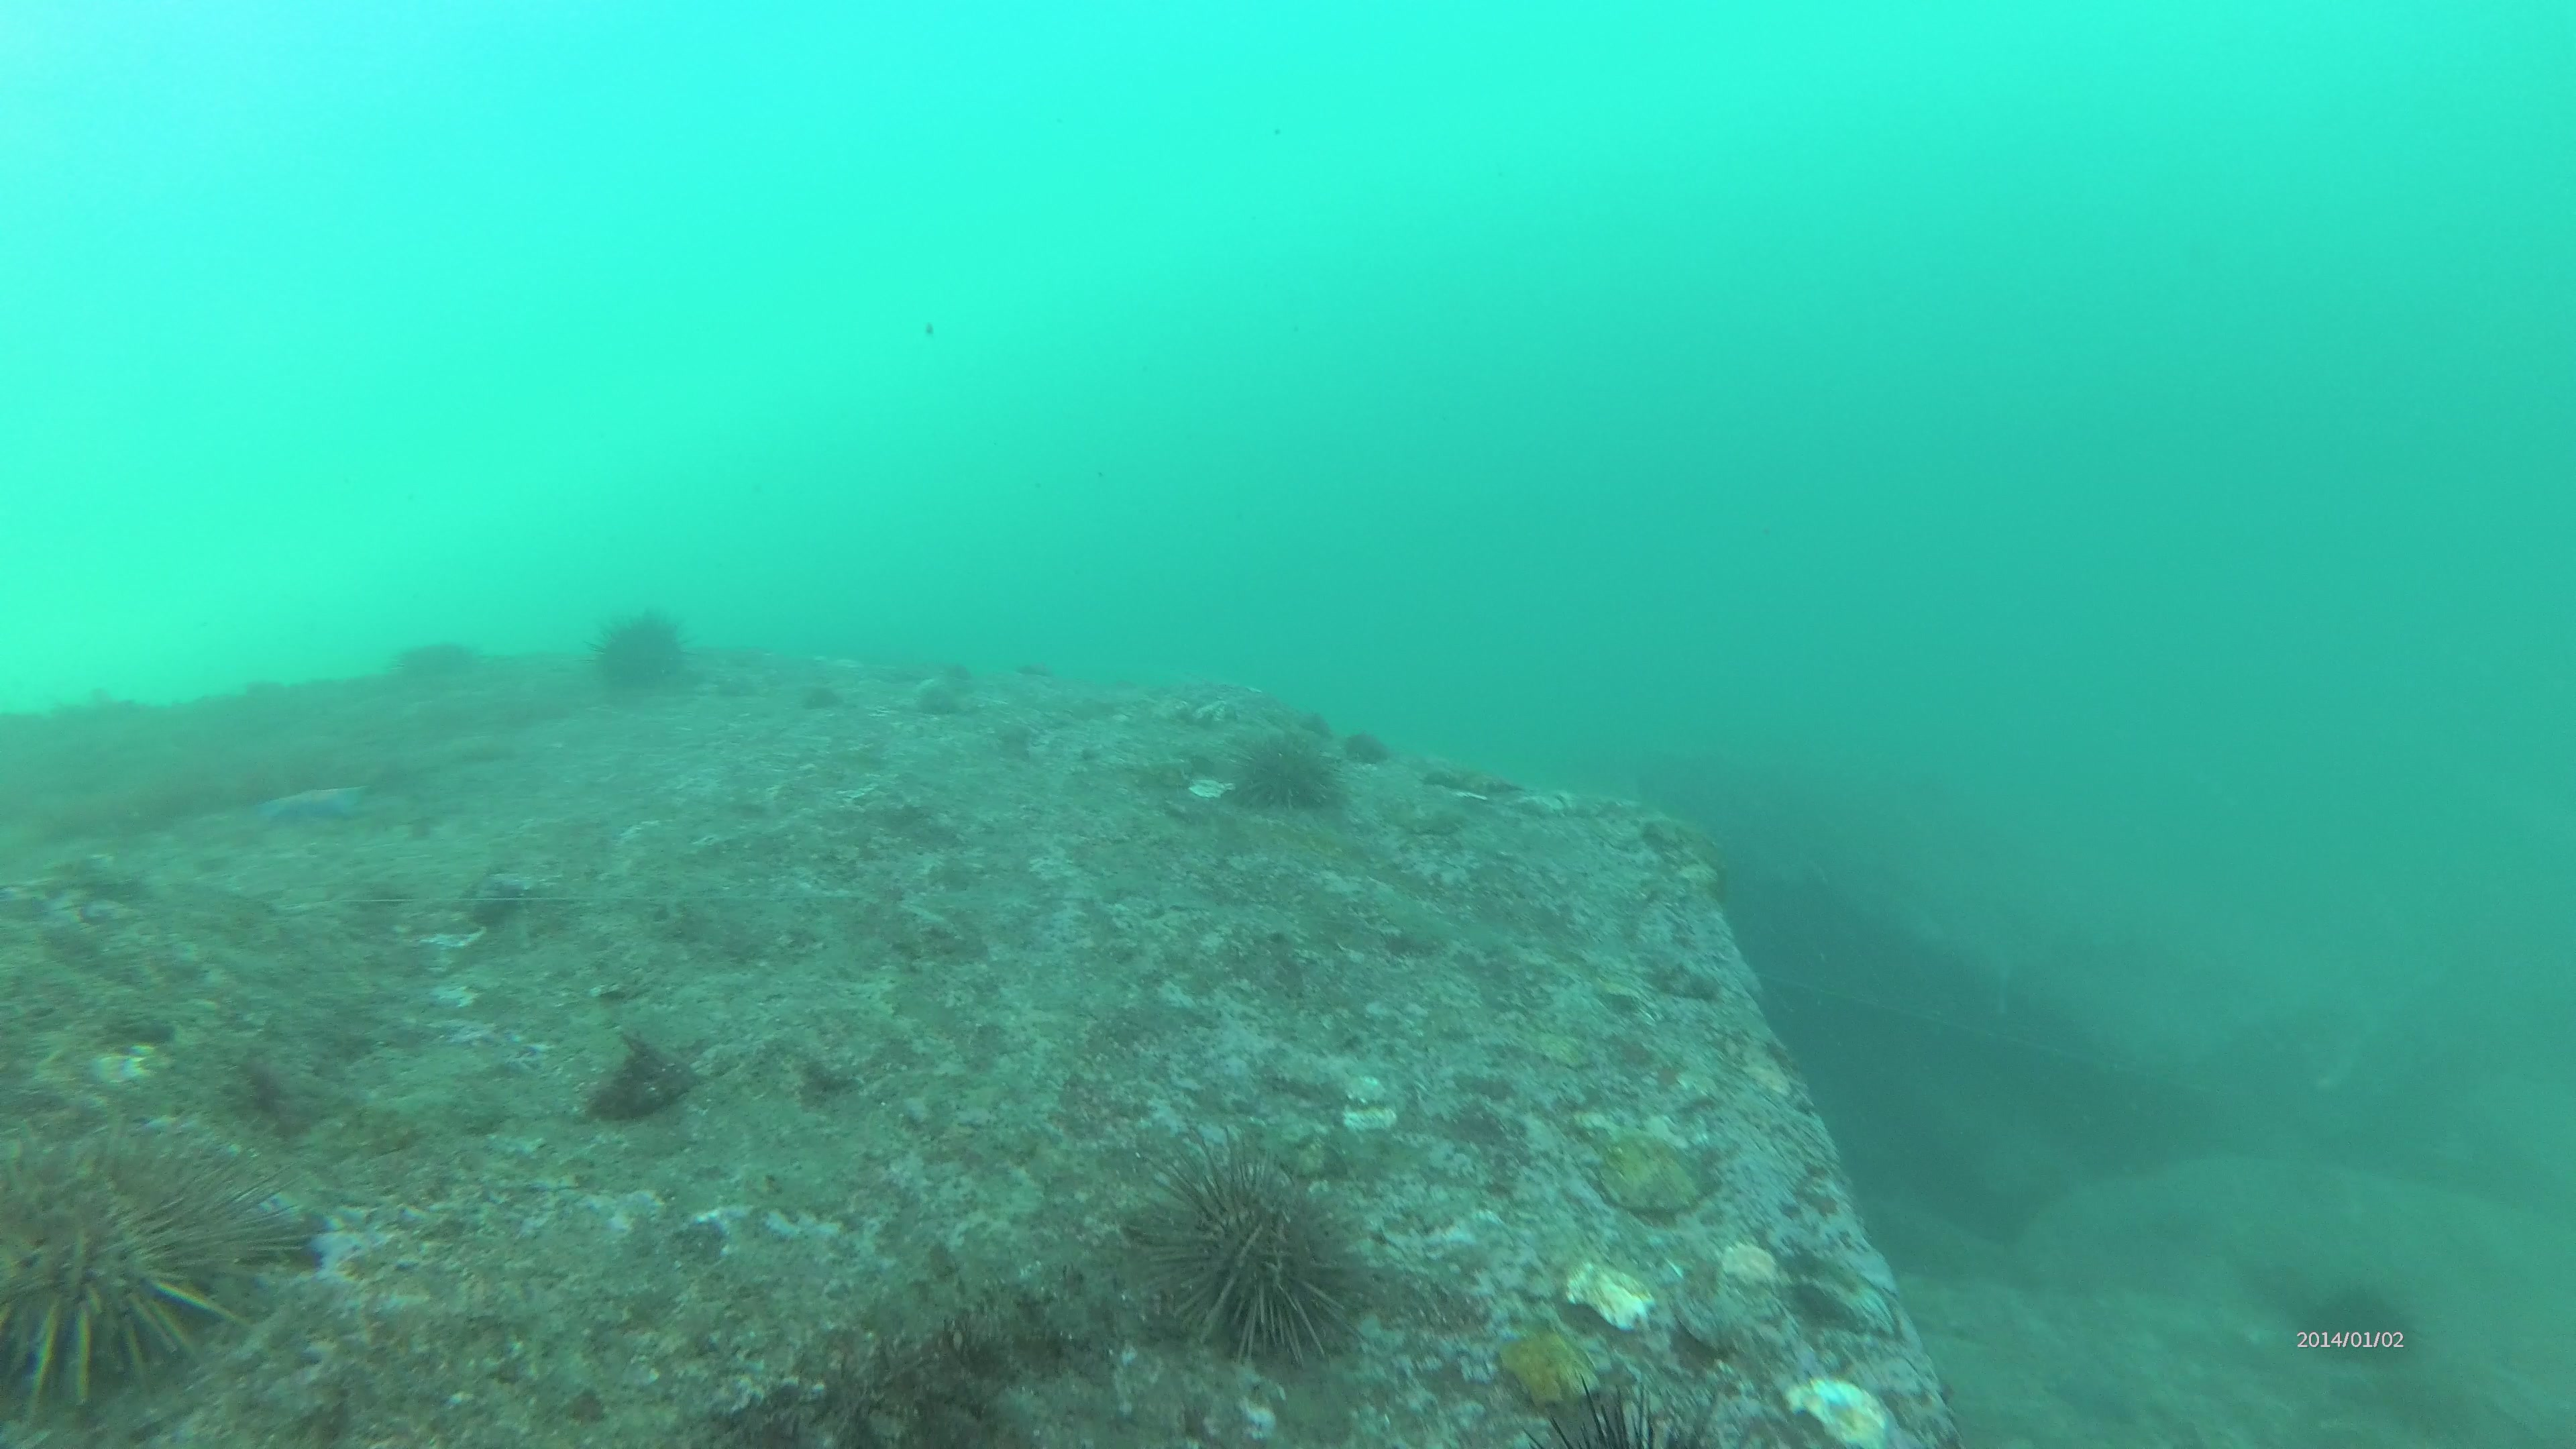echinus: (11, 1122, 285, 1405), (1131, 1129, 1375, 1364), (1238, 727, 1341, 819), (596, 614, 692, 697)
